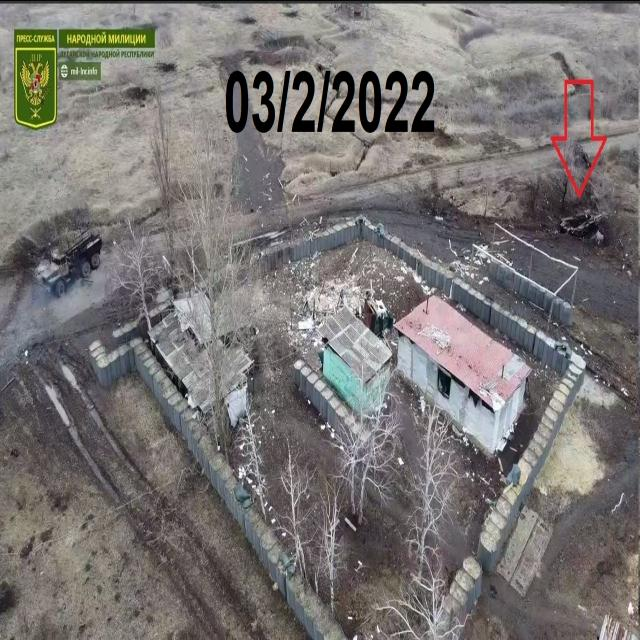cars: (39, 231, 102, 298)
